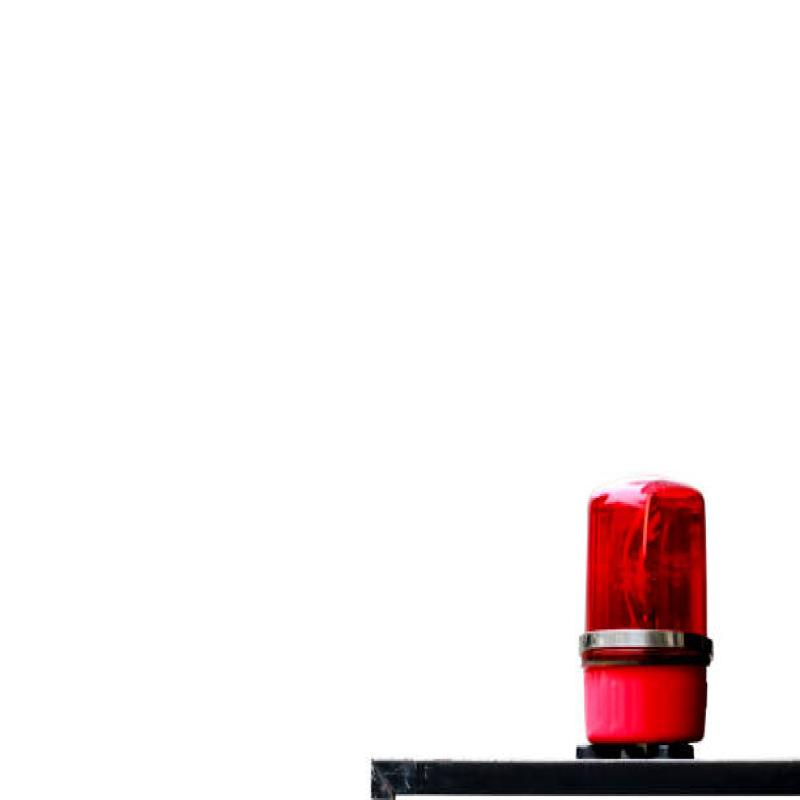AmbulanceSiren: (548, 464, 731, 765)
